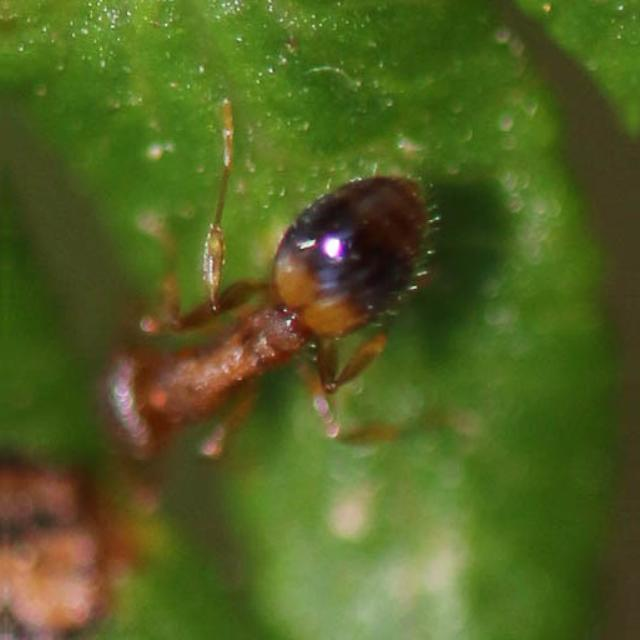Temnothorax: (51, 105, 482, 499)
